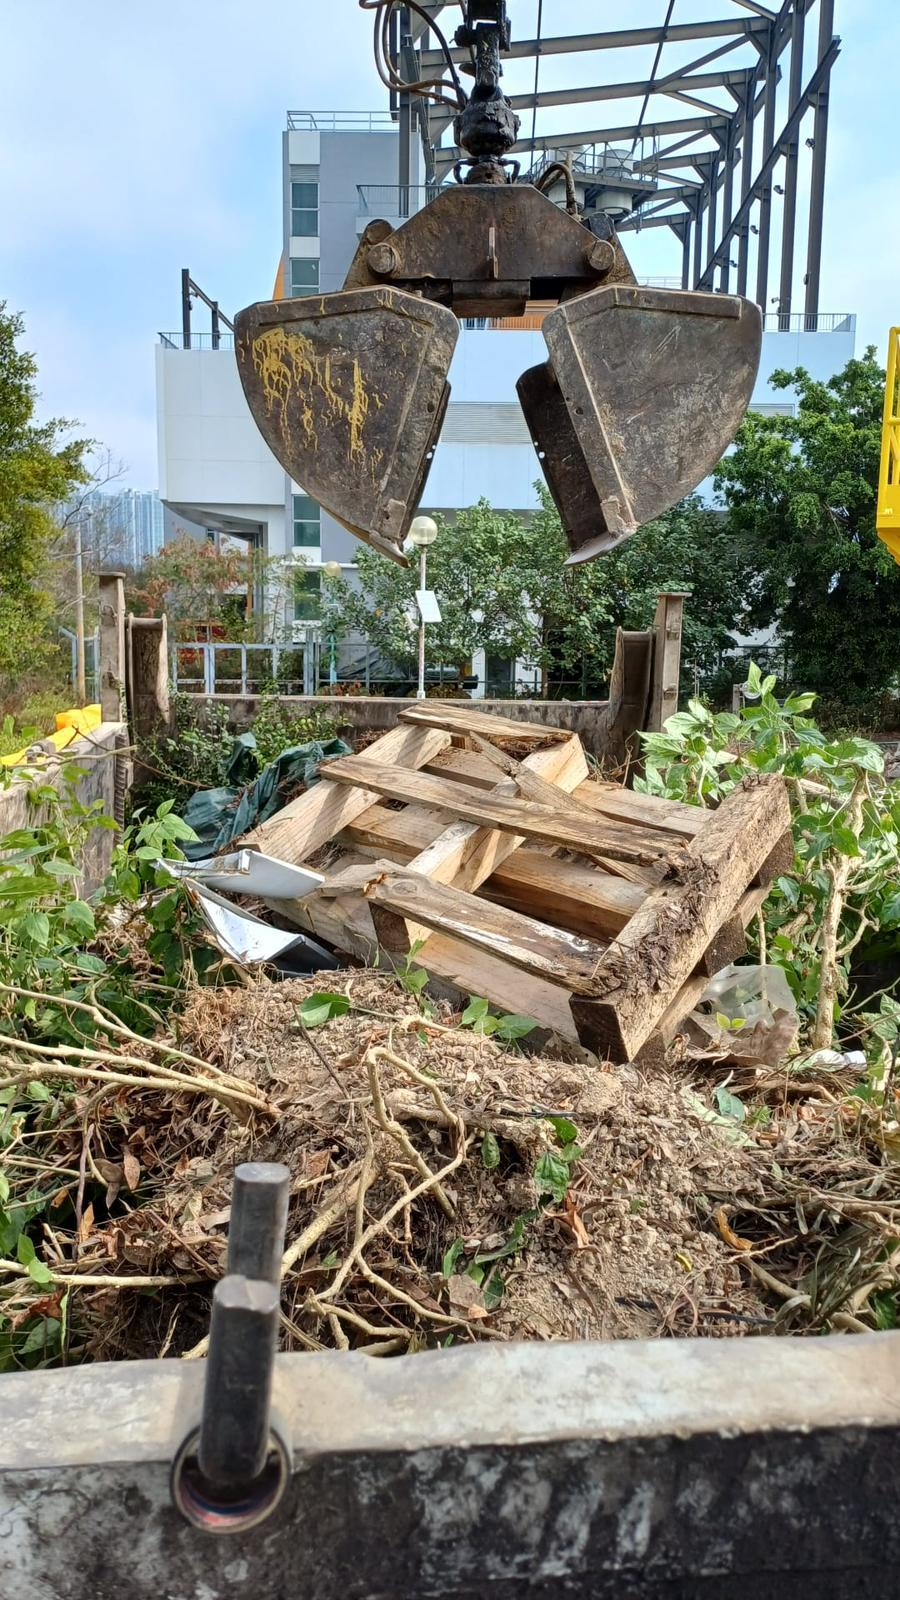rubblish: (267, 743, 765, 1025)
wood: (0, 673, 900, 1373)
